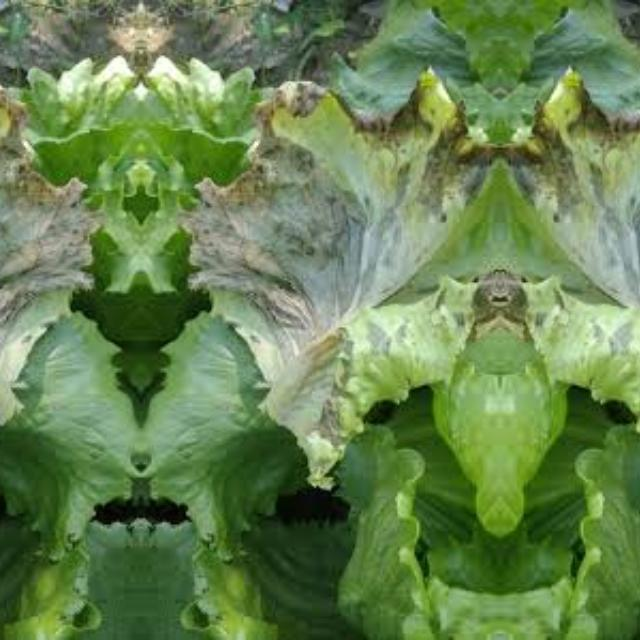Lettuce - Anthracnose: (150, 33, 500, 454), (499, 33, 640, 454), (0, 33, 129, 454)
